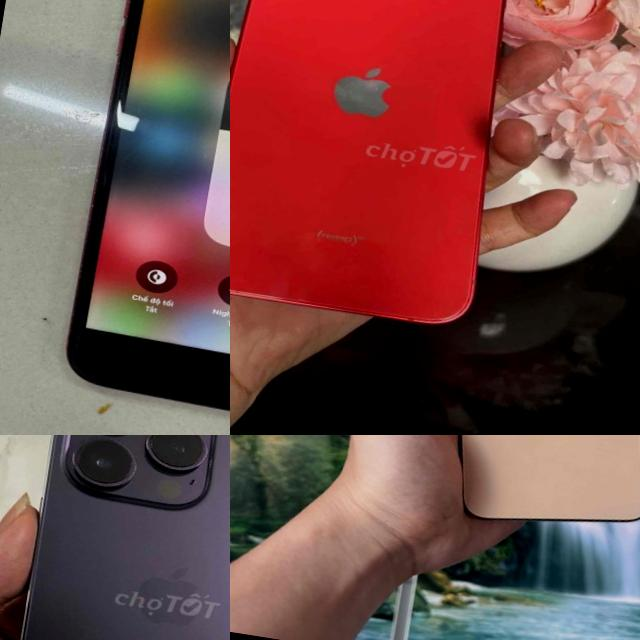gen_11: (230, 0, 539, 339), (401, 435, 640, 547)
gen_14: (0, 435, 230, 640)
gen_7_8: (47, 0, 230, 435)
